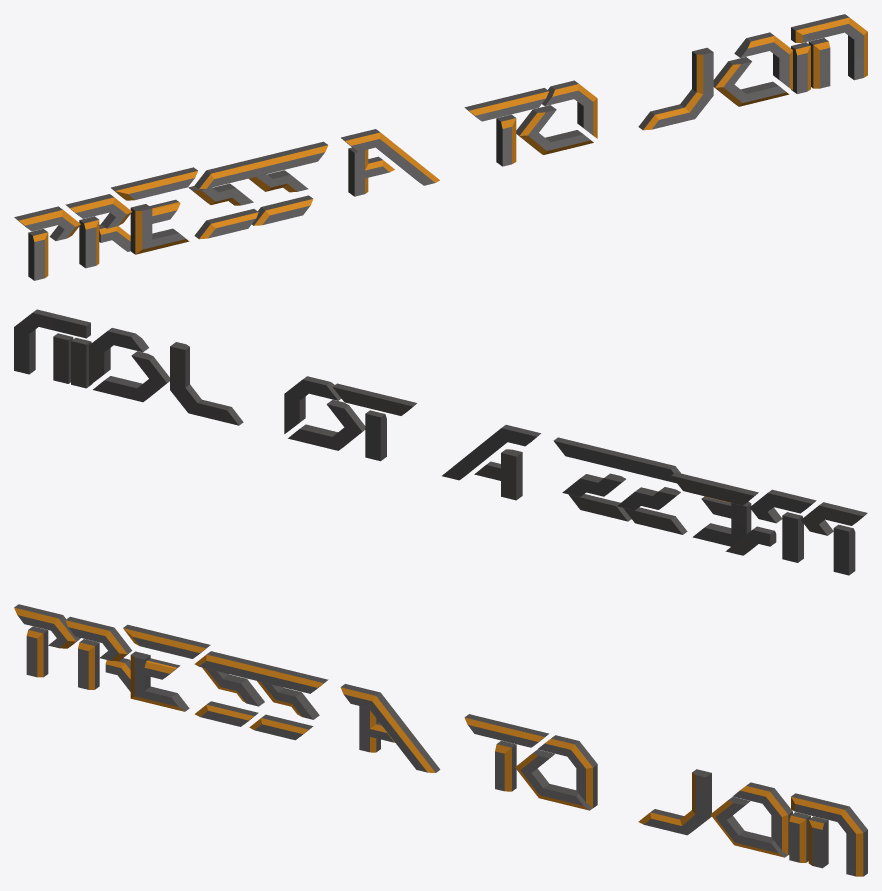
Rendered from Press_A_To_join.fbx.
3 views of the same model, one above another, from view 1: azimuth 30°, elevation 25°; view 2: azimuth 150°, elevation 25°; view 3: azimuth 330°, elevation 25° (orthographic).
Visible parts, largest first — view 1: Press_A_to_join; view 2: Press_A_to_join; view 3: Press_A_to_join.
Boxes of the visible parts, <box> form: Press_A_to_join: <box>14,14,867,280</box>; Press_A_to_join: <box>14,309,867,575</box>; Press_A_to_join: <box>14,604,867,876</box>.
Bounding box in the file's own units: 3216 × 229 × 82.94.
